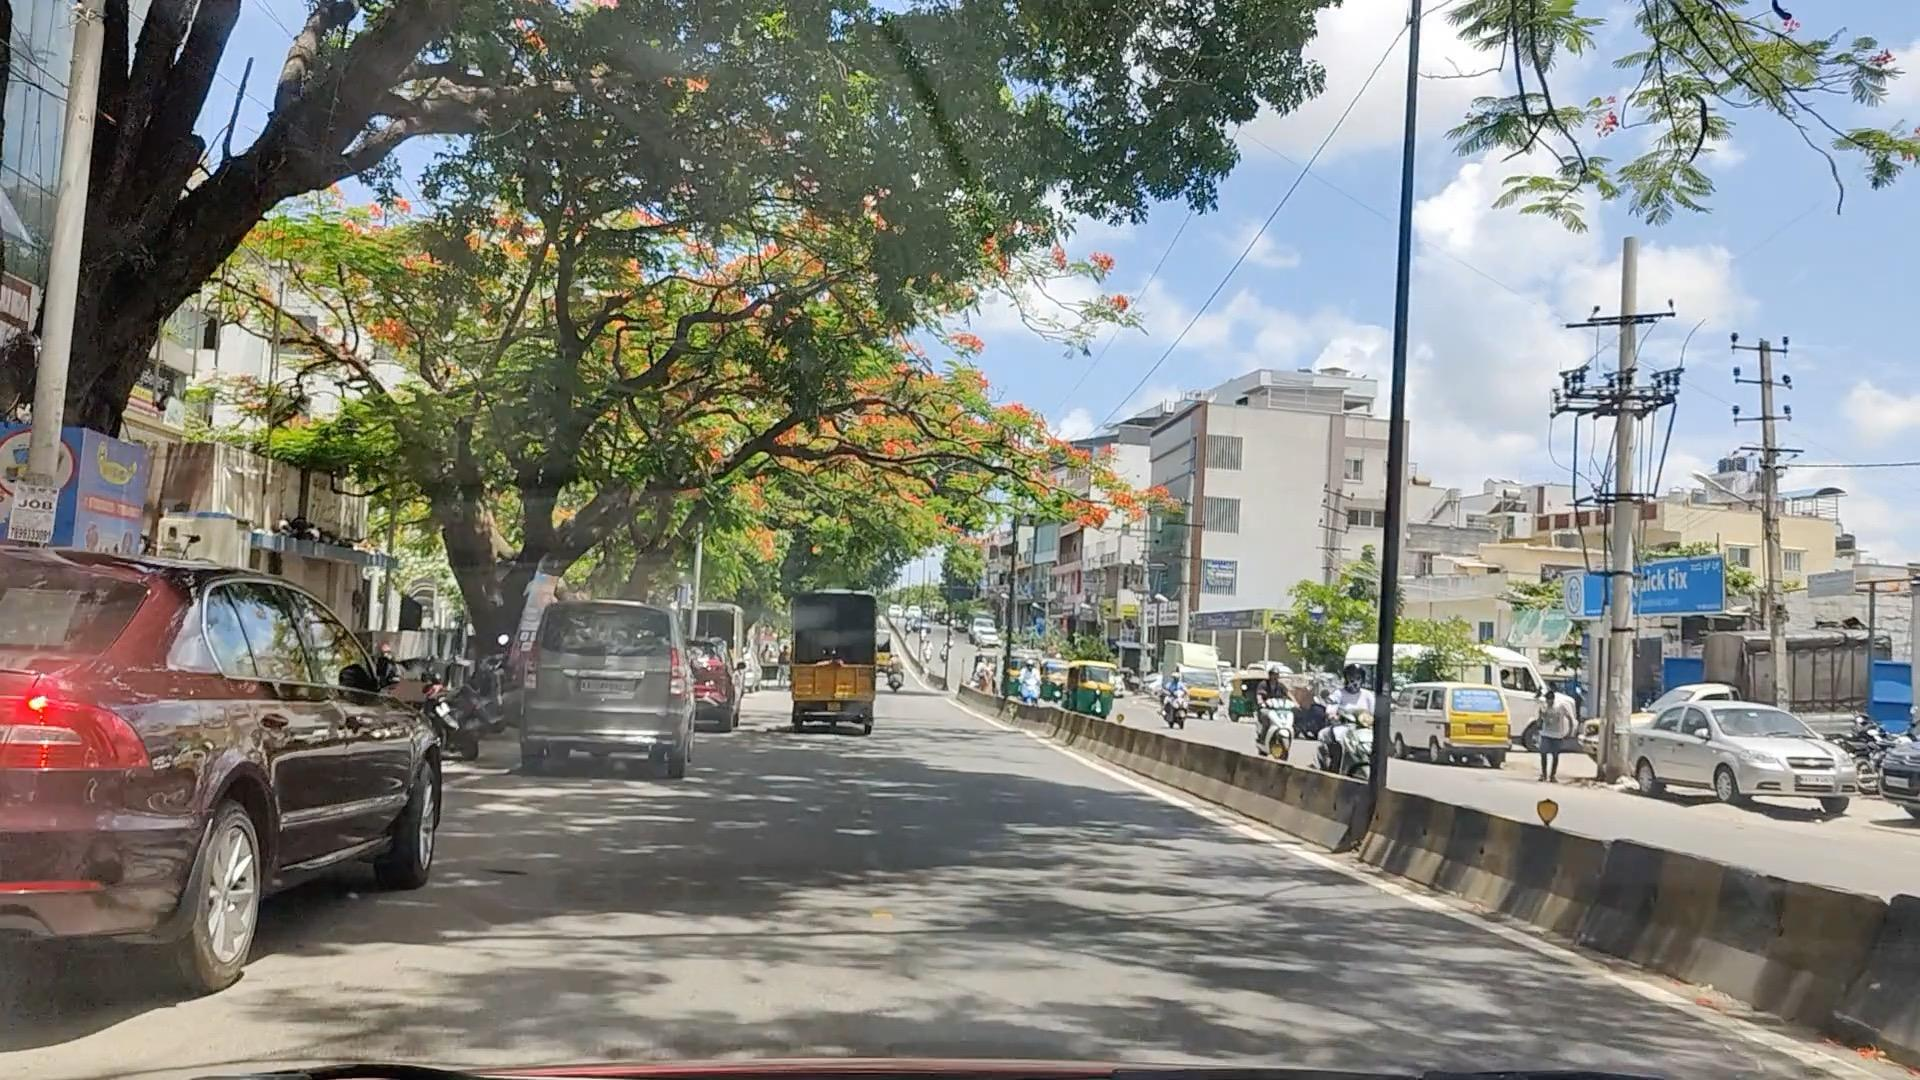HMV: (779, 587, 902, 729)
LMV: (537, 597, 680, 754)
